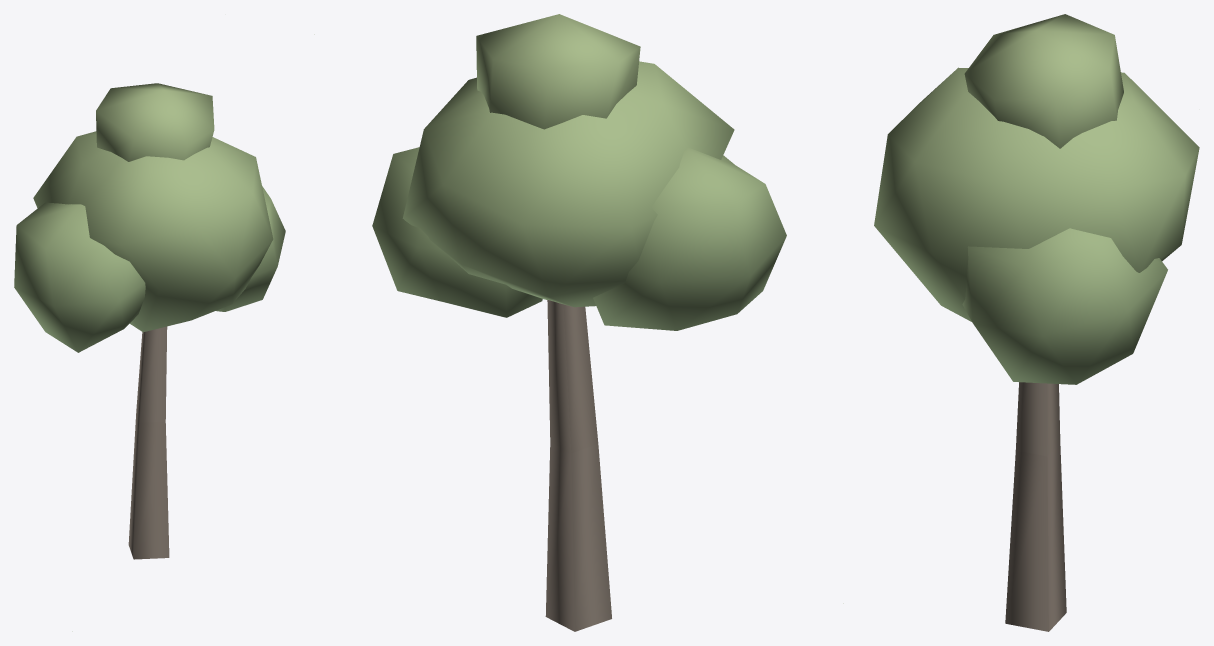
Rendered from FarLeafy1_leaf.glb.
3 views of the same model, side by side, from view 1: azimuth 30°, elevation 25°; view 2: azimuth 150°, elevation 25°; view 3: azimuth 270°, elevation 25° (orthographic). The views are drawn at different scales.
Visible parts, largest first — view 1: FarLeafy1_leaf; view 2: FarLeafy1_leaf; view 3: FarLeafy1_leaf.
Boxes of the visible parts, x1,y1,x2,y2 form: FarLeafy1_leaf: (14,83,285,631); FarLeafy1_leaf: (314,14,843,631); FarLeafy1_leaf: (874,14,1199,631).
Bounding box in the file's own units: 10.08 × 15.82 × 7.85.
